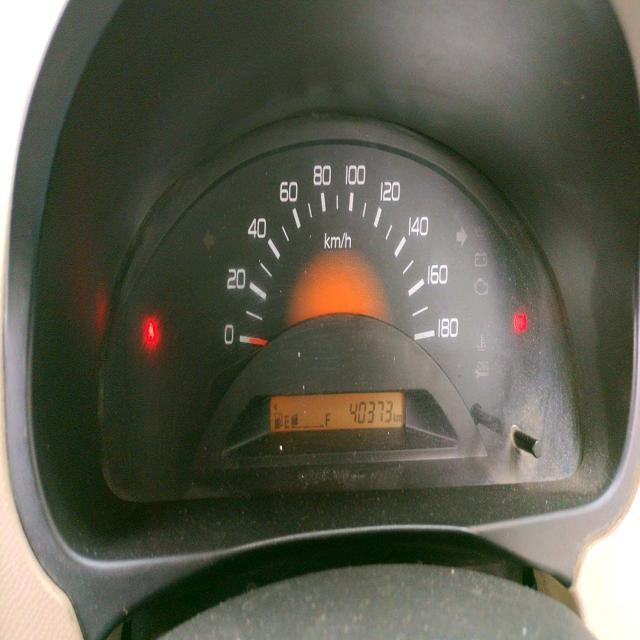odometer: (346, 396, 392, 426)
